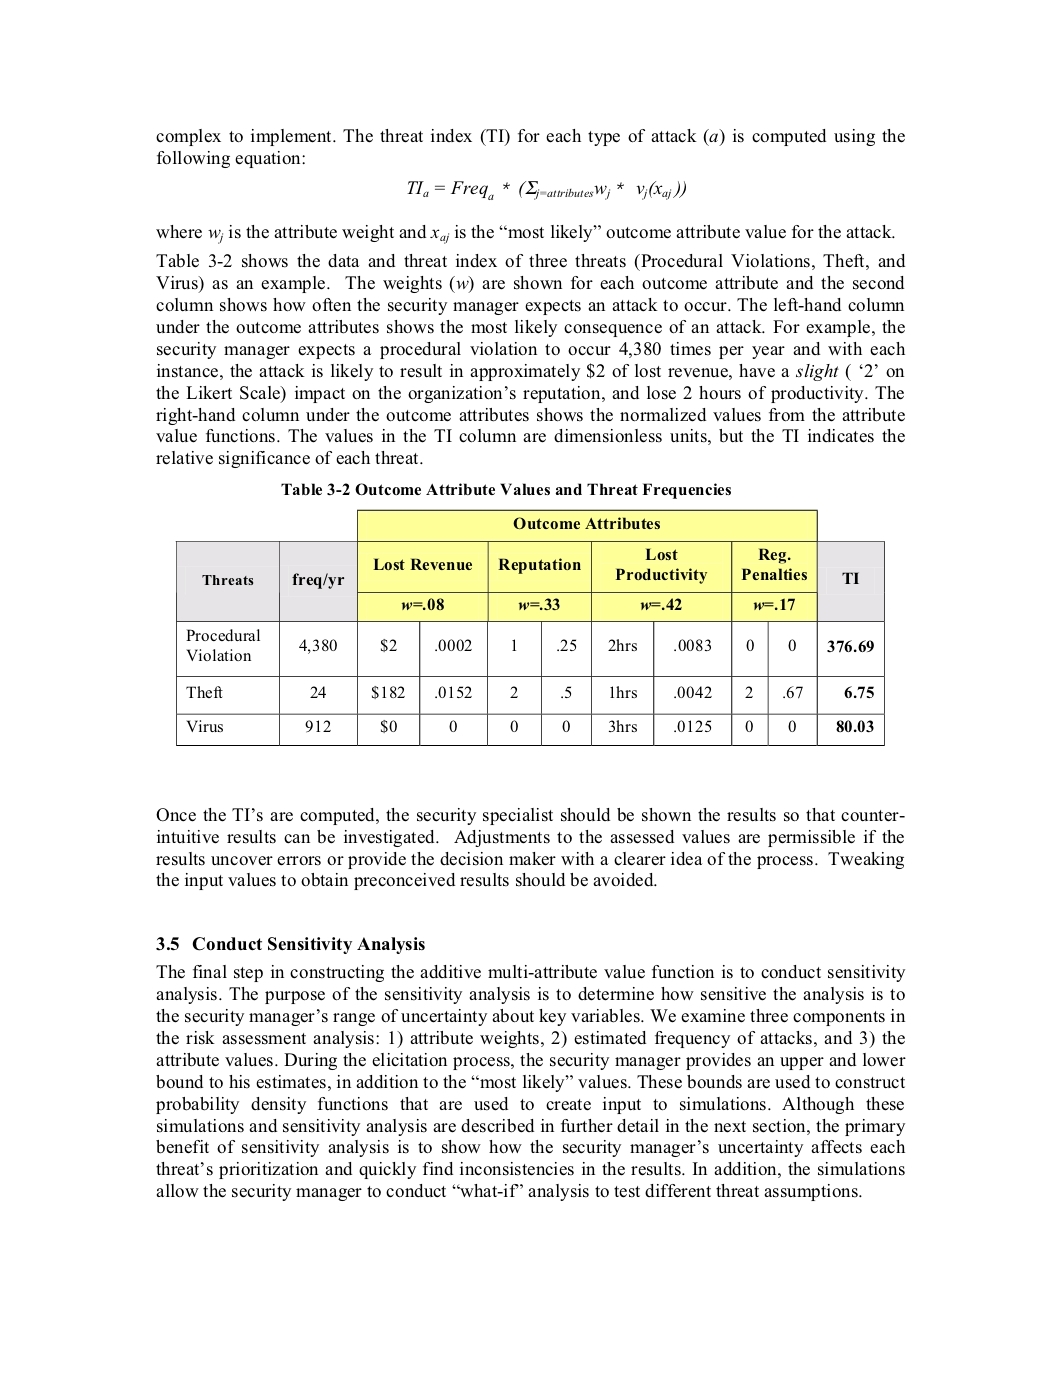Table: (175, 508, 884, 746)
formula: (407, 181, 685, 199)
